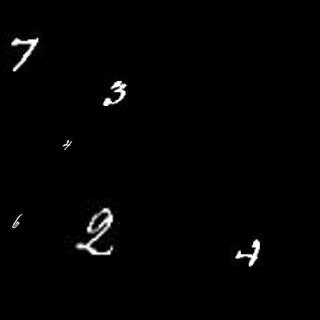four: (231, 236, 266, 267), (59, 136, 74, 153)
seven: (4, 32, 43, 79)
six: (12, 213, 25, 229)
three: (98, 74, 132, 110)
two: (77, 205, 116, 257)
